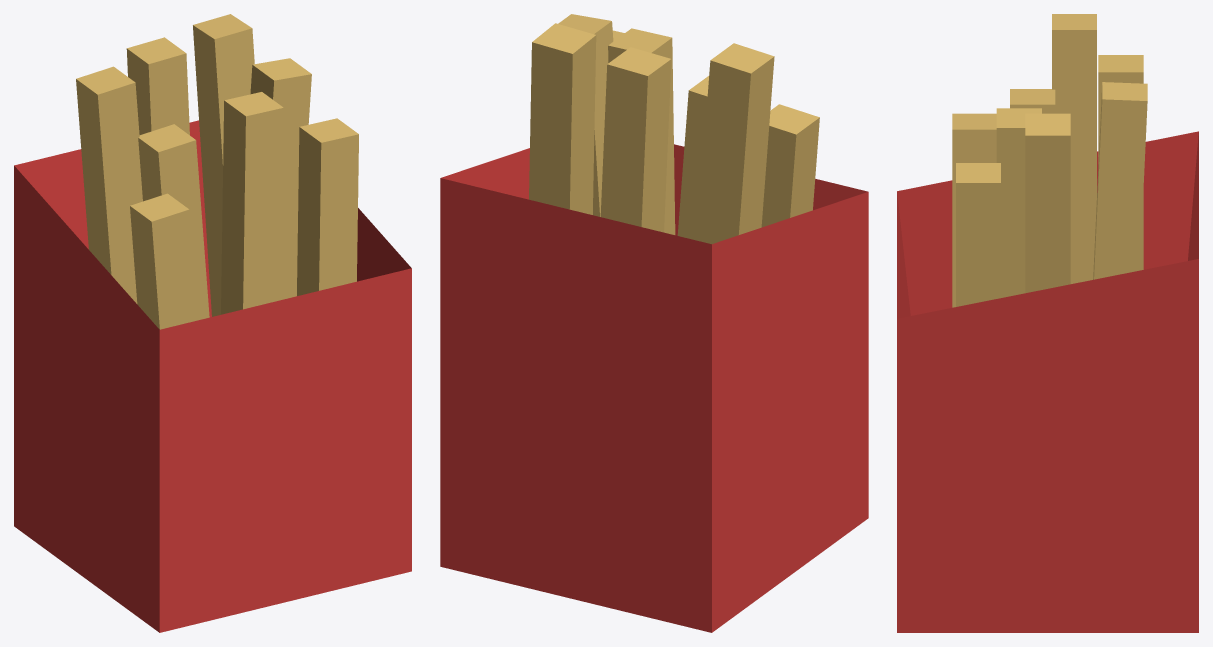
File: fries.fbx
The picture shows the model from 3 angles, left to right: view 1: azimuth 30°, elevation 25°; view 2: azimuth 150°, elevation 25°; view 3: azimuth 270°, elevation 25°; orthographic projection. The views are drawn at different scales.
Visible parts, largest first — view 1: Cube, Cube.005, Cube.001, Cube.008, Cube.006, Cube.007, Cube.003, Cube.002, Cube.004; view 2: Cube, Cube.001, Cube.006, Cube.004, Cube.007, Cube.002, Cube.003, Cube.005; view 3: Cube, Cube.006, Cube.001, Cube.003, Cube.008, Cube.005, Cube.007, Cube.004, Cube.002.
Part boxes in pixels (<box>): Cube: <box>14,120,411,632</box>; Cube.005: <box>221,92,283,314</box>; Cube.001: <box>76,66,142,303</box>; Cube.008: <box>297,118,358,295</box>; Cube.006: <box>193,14,254,316</box>; Cube.007: <box>130,193,197,329</box>; Cube.003: <box>250,58,311,299</box>; Cube.002: <box>138,124,209,320</box>; Cube.004: <box>126,37,189,135</box>; Cube: <box>440,144,868,632</box>; Cube.001: <box>696,43,774,244</box>; Cube.006: <box>529,23,596,214</box>; Cube.004: <box>600,47,671,232</box>; Cube.007: <box>761,104,819,227</box>; Cube.002: <box>677,75,709,240</box>; Cube.003: <box>558,14,613,216</box>; Cube.005: <box>608,28,675,234</box>; Cube: <box>897,131,1198,632</box>; Cube.006: <box>1093,82,1147,279</box>; Cube.001: <box>1052,14,1096,283</box>; Cube.003: <box>1025,113,1070,293</box>; Cube.008: <box>956,163,1000,306</box>; Cube.005: <box>996,108,1041,297</box>; Cube.007: <box>952,113,996,307</box>; Cube.004: <box>1098,55,1143,270</box>; Cube.002: <box>1010,89,1055,113</box>.
Bounding box in the file's own units: 200 × 368 × 200.
